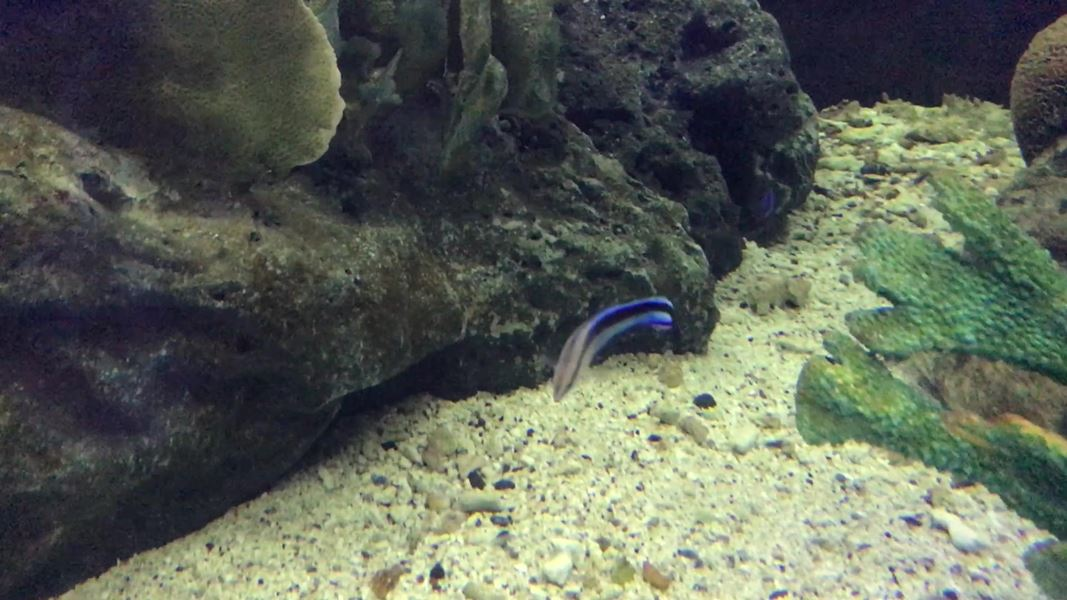Bluesteak cleaner wrasse: (535, 291, 690, 411)
